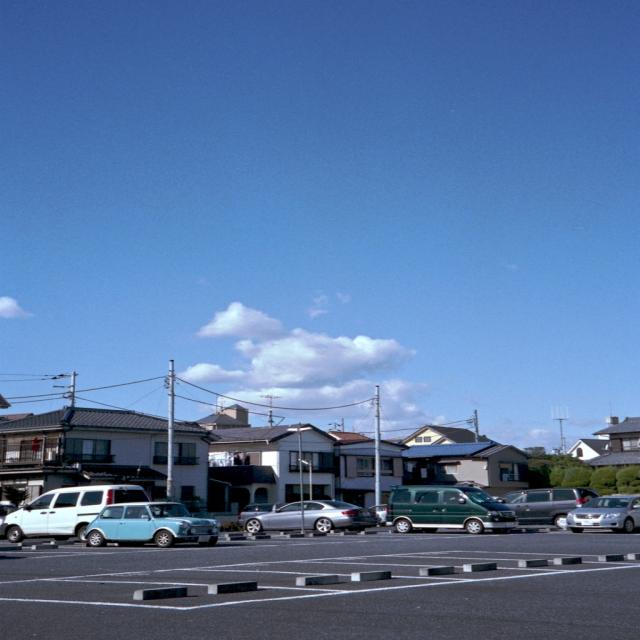car: (75, 498, 232, 548), (232, 494, 377, 536)
